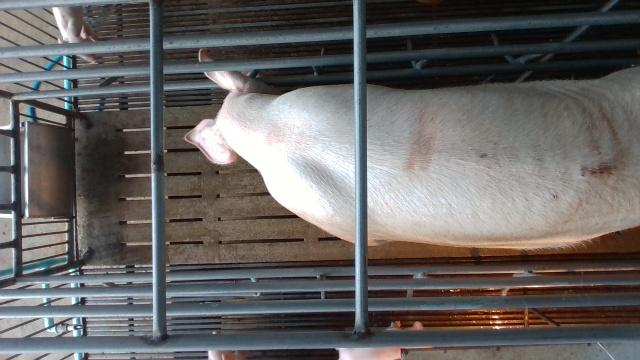piglet: (335, 322, 433, 360), (51, 5, 99, 64)
sow-stand: (183, 47, 640, 252)
